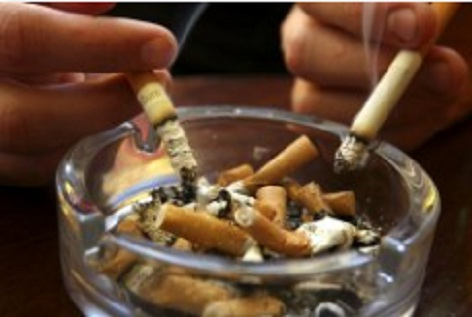cigarette: (330, 1, 460, 170), (124, 73, 198, 172)
